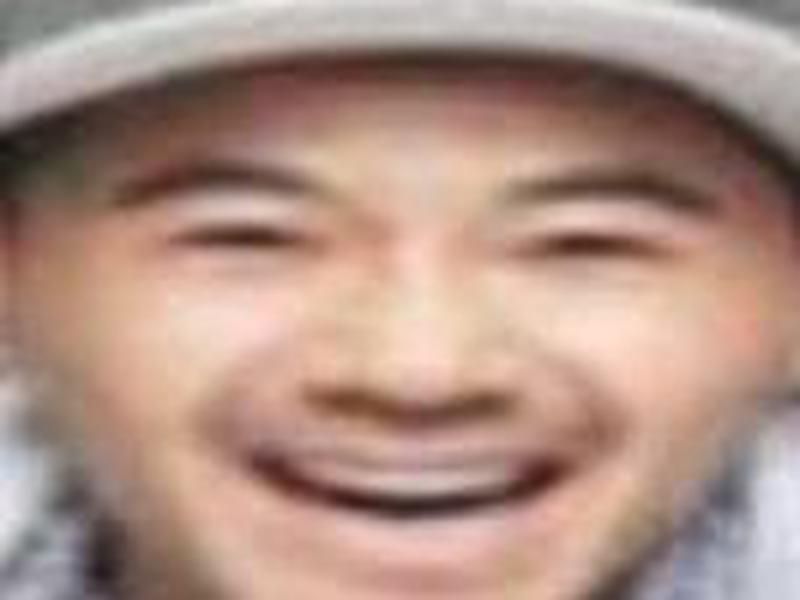without_mask: (49, 84, 782, 600)
